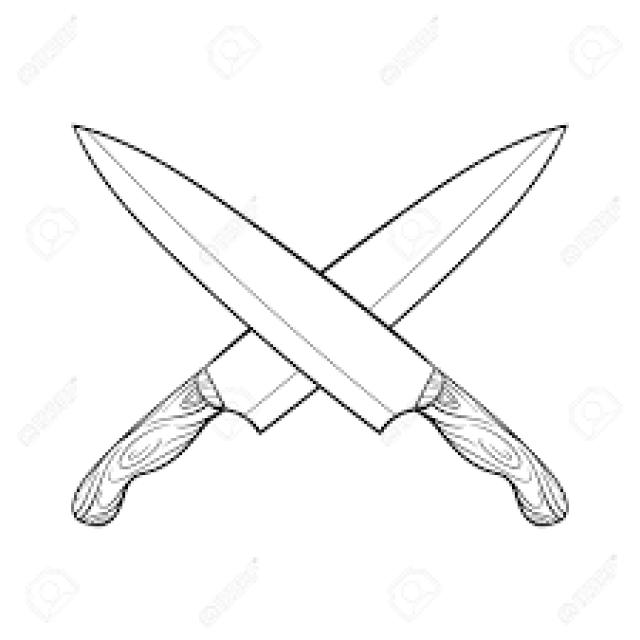Knife: (68, 119, 569, 526)
